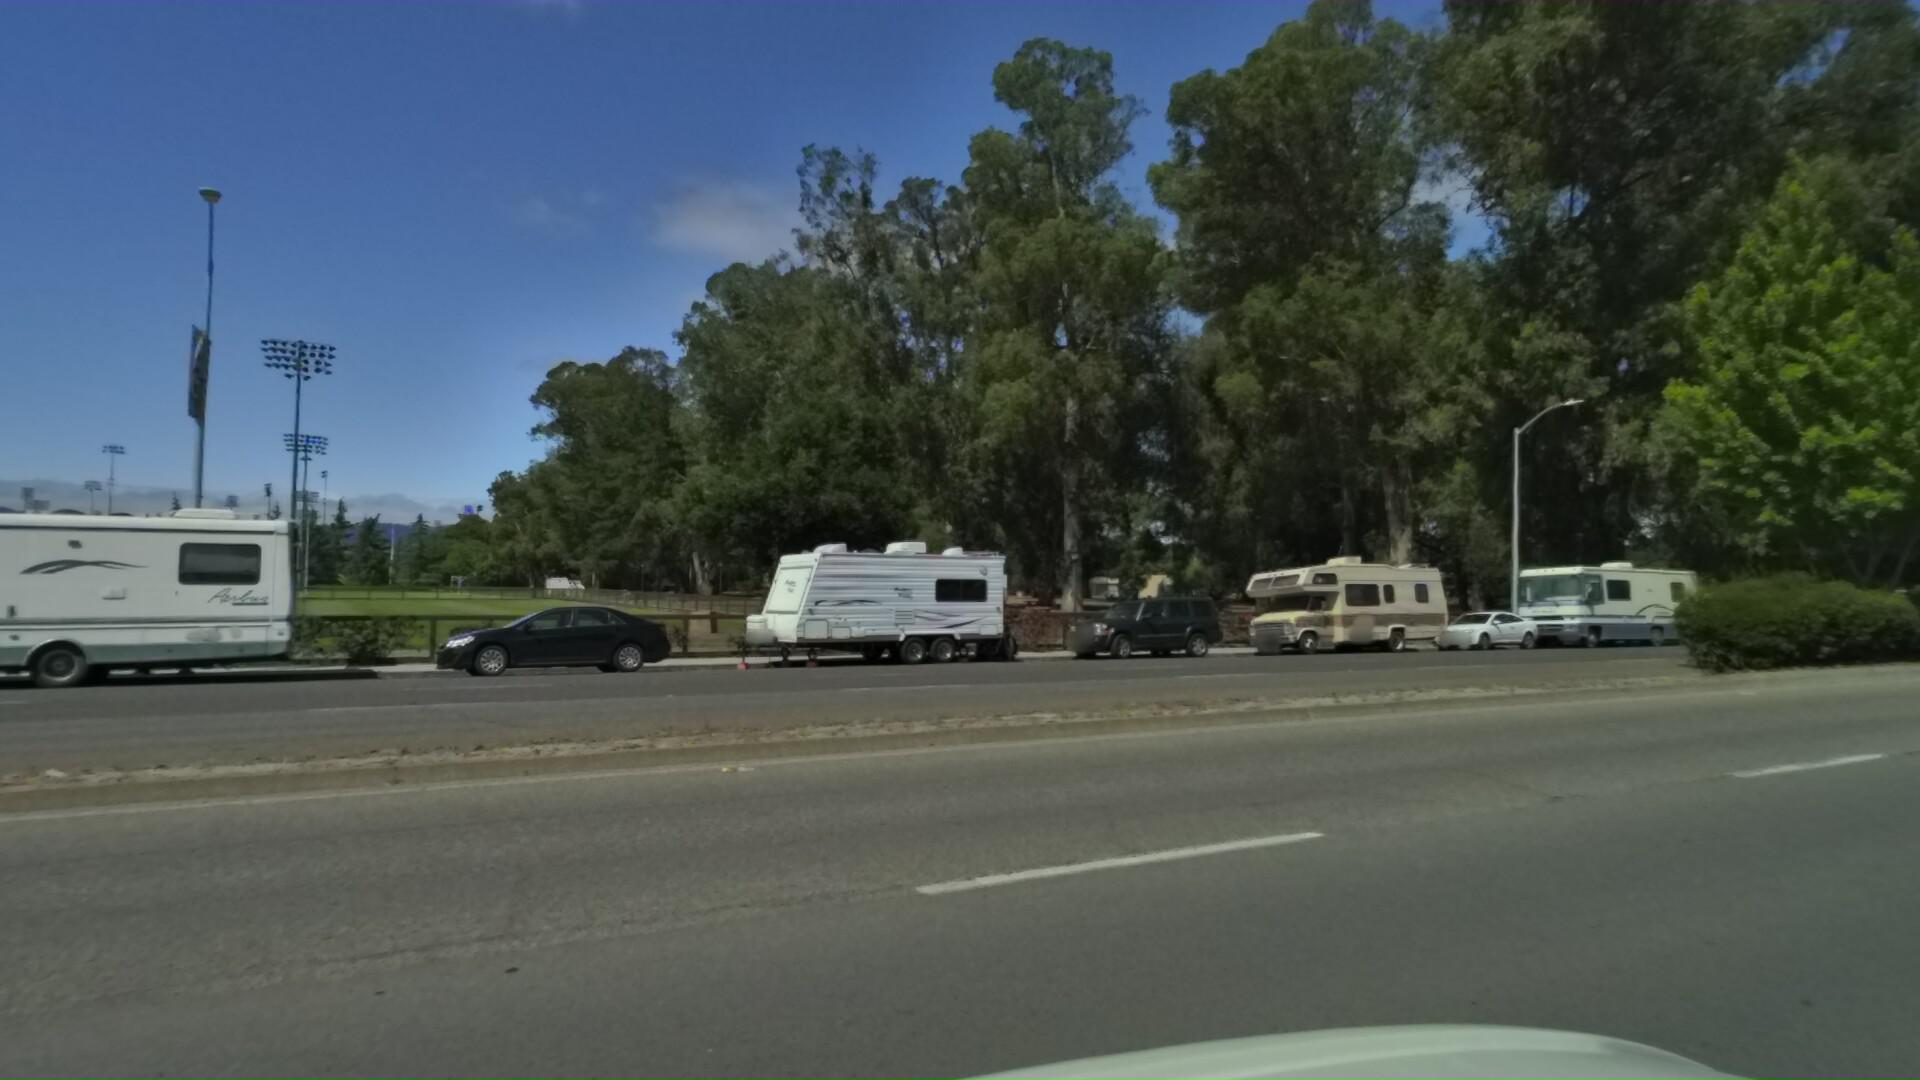car: (392, 600, 659, 684), (1034, 587, 1212, 661), (1403, 601, 1531, 647)
other_vehicle: (0, 458, 286, 724), (684, 527, 1000, 673), (1213, 539, 1443, 659), (1487, 545, 1695, 651)
